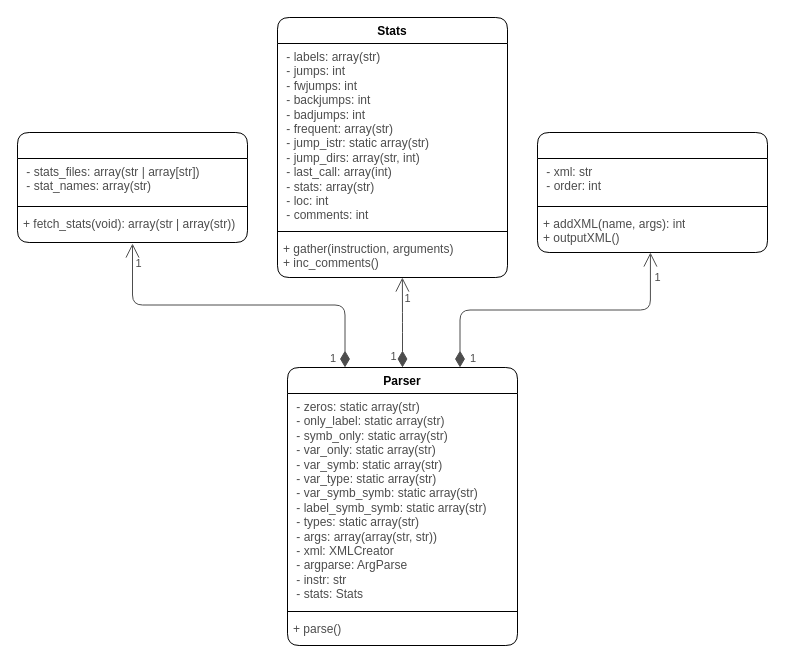
Some shapes in this 785 by 666 pixel diagram are drawn without their labels. The box of each missing label's shape, as (x1, y1, x2, y2) in pixels:
ArgParse: (16, 132, 248, 242)
XMLCreator: (536, 132, 768, 252)
